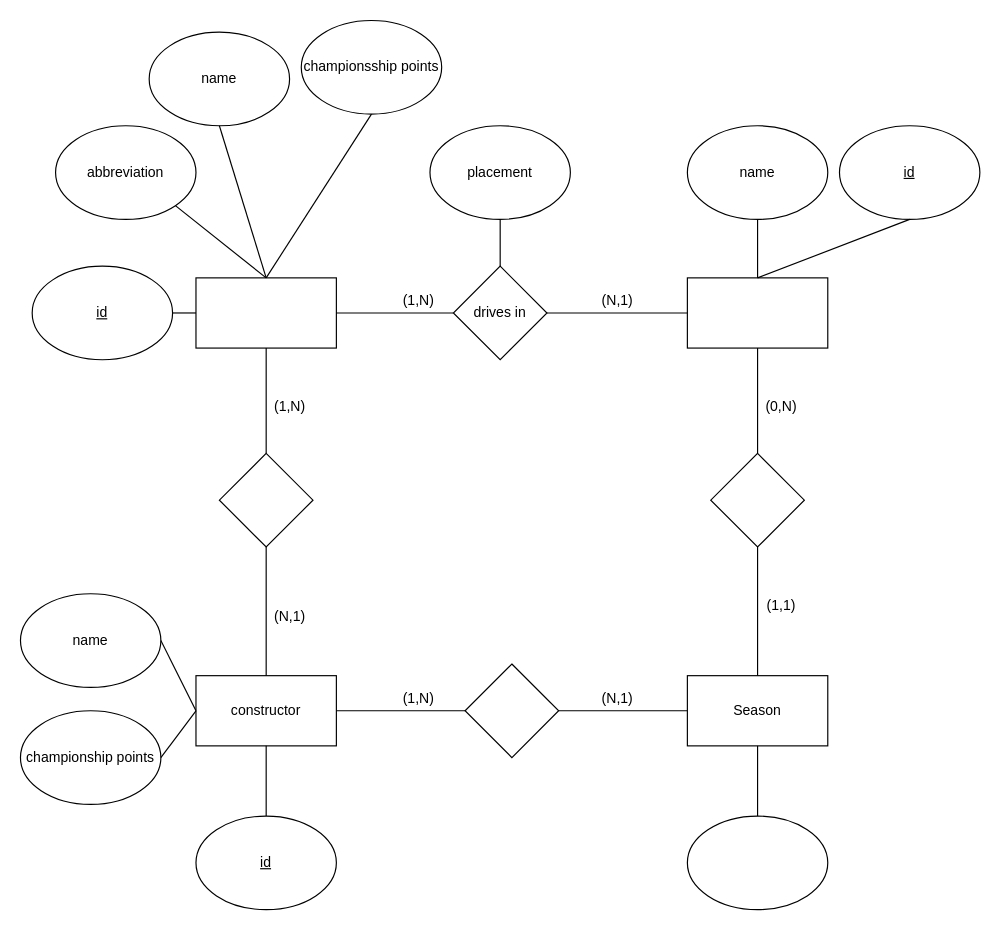
Some shapes in this 1000 by 930 pixel diagram are drawn without their labels. Here are the shapes that lost their labels. From the top down, the centre of each, then its label:
At point (265, 312): "Driver".
At point (757, 312): "Grand Prix".
At point (265, 499): "drives for".
At point (757, 499): "belongs to".
At point (511, 710): "competes in".
At point (757, 862): "year".
